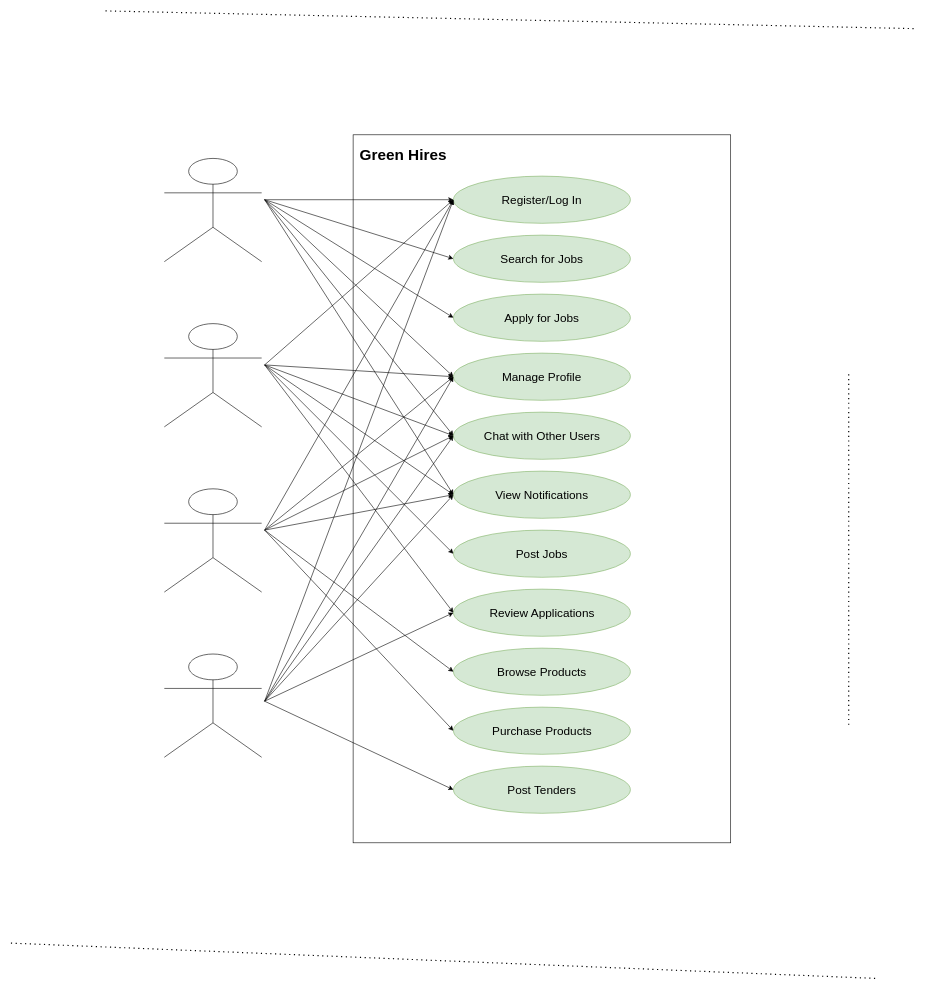
Some shapes in this 925 by 989 pixel diagram are drawn without their labels. The shapes that lost their labels are listed below. From the top down, each one's centre as x and y in pixels, then its label:
point (213, 210): Farmer
point (213, 375): Land Lord
point (213, 540): Merchant
point (213, 705): Company
